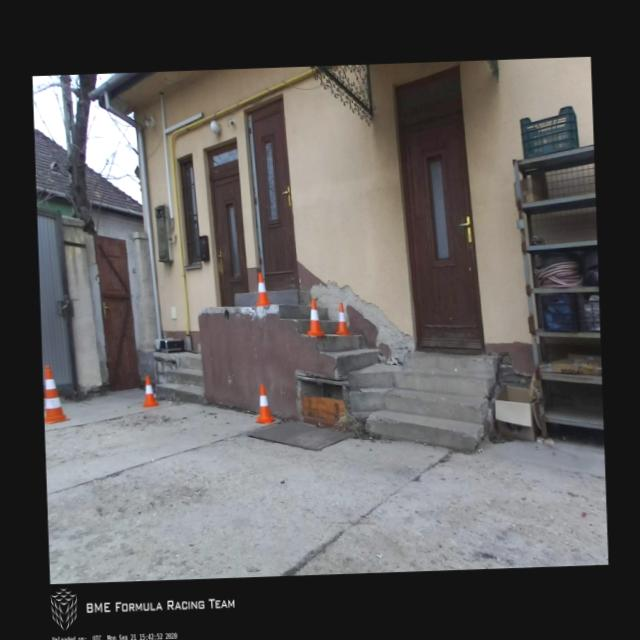large_orange_cone: (42, 365, 70, 423)
orange_cone: (254, 383, 274, 424), (304, 298, 324, 336), (254, 272, 272, 304), (334, 302, 351, 334), (142, 376, 158, 406)
